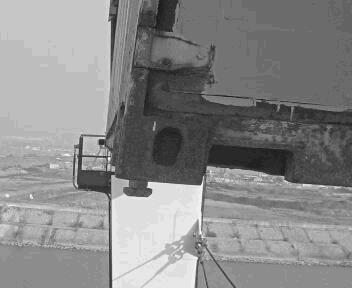twist_lock_1: (118, 178, 158, 205)
